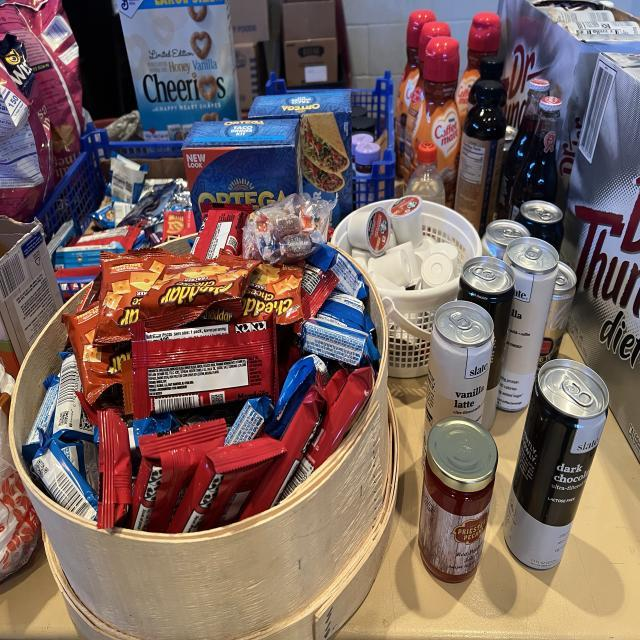Coffee: (504, 358, 609, 570), (422, 300, 494, 463), (498, 237, 559, 412), (458, 255, 515, 430)
Creamer: (412, 35, 461, 208), (404, 20, 450, 182), (395, 8, 435, 177), (455, 12, 501, 127), (348, 207, 391, 257), (388, 195, 422, 247), (369, 250, 412, 287), (386, 242, 420, 283), (421, 253, 454, 288), (430, 242, 459, 277), (369, 272, 405, 290), (414, 237, 436, 262), (351, 248, 371, 262)
Pickled Food -Jar-: (419, 417, 498, 582)
Snack: (131, 313, 279, 418), (240, 372, 325, 520), (282, 367, 374, 497), (168, 437, 285, 533), (129, 420, 226, 532), (0, 33, 54, 222), (94, 248, 198, 345), (62, 303, 131, 405), (242, 193, 335, 263), (142, 262, 258, 317), (265, 355, 329, 438), (32, 440, 98, 520), (301, 315, 380, 370), (96, 410, 131, 528), (242, 262, 305, 325), (52, 353, 94, 442), (191, 203, 252, 260), (308, 245, 369, 300), (22, 375, 60, 463), (119, 180, 178, 227), (300, 263, 339, 320), (58, 440, 99, 493), (110, 152, 149, 203), (129, 413, 179, 450), (69, 225, 141, 250), (319, 292, 364, 330), (90, 203, 115, 228), (166, 188, 192, 212), (144, 220, 164, 247), (132, 230, 150, 250), (294, 322, 301, 335)
Soda: (498, 78, 549, 218), (511, 97, 561, 218), (538, 262, 576, 368), (515, 200, 564, 252), (481, 220, 530, 260), (504, 125, 518, 150)
